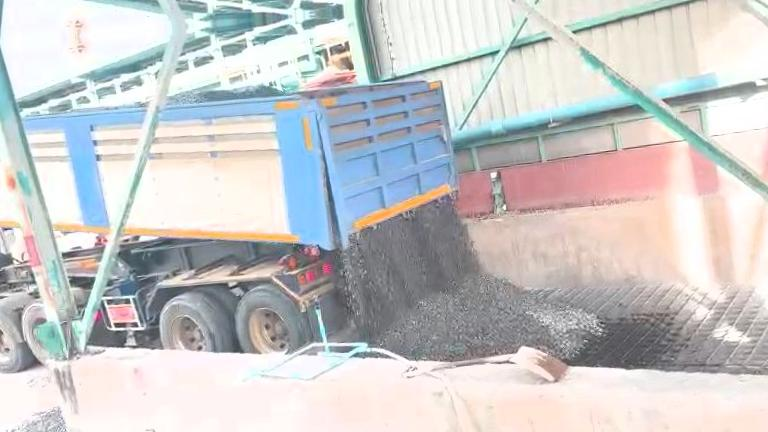gravel: (343, 201, 602, 359), (170, 84, 288, 105), (0, 408, 90, 432)
